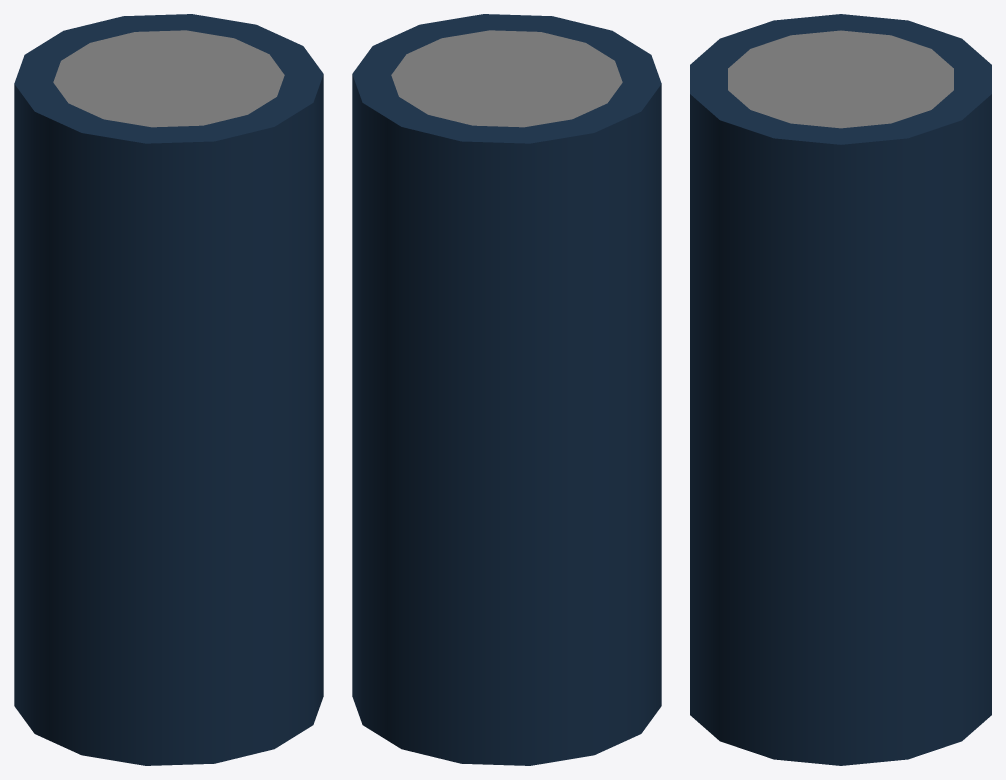
File: 3D_SweeperBody.fbx
3 views of the same model, side by side, from view 1: azimuth 30°, elevation 25°; view 2: azimuth 150°, elevation 25°; view 3: azimuth 270°, elevation 25° (orthographic).
Visible parts, largest first — view 1: 3D_SweeperBody; view 2: 3D_SweeperBody; view 3: 3D_SweeperBody.
Boxes of the visible parts, x1=… form: 3D_SweeperBody: x1=14, y1=14, x2=323, y2=765; 3D_SweeperBody: x1=352, y1=14, x2=661, y2=765; 3D_SweeperBody: x1=690, y1=14, x2=991, y2=765.
Size of the model in its own units: 45.2 by 100 by 44.06.
Materials: 1 (1 with a texture image).
